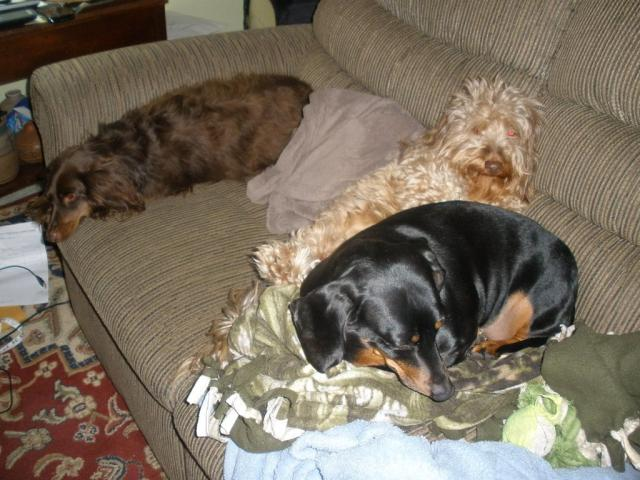Dog: (239, 73, 544, 288), (284, 200, 583, 402), (30, 71, 313, 243)
